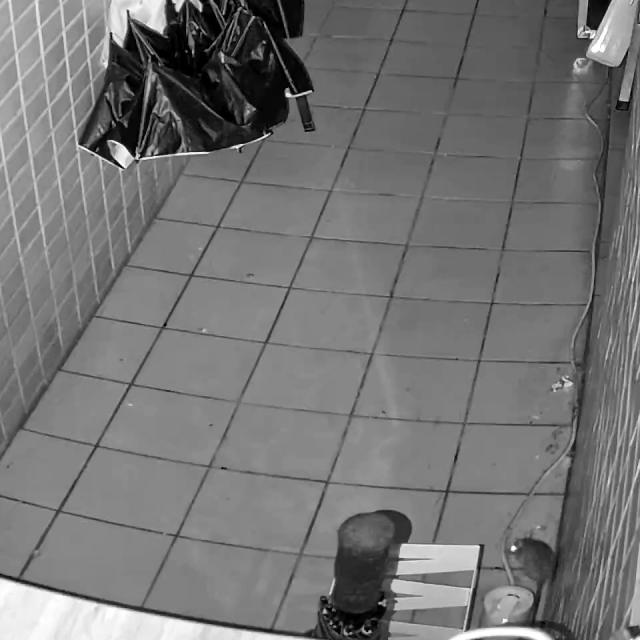rat: (508, 535, 556, 623)
